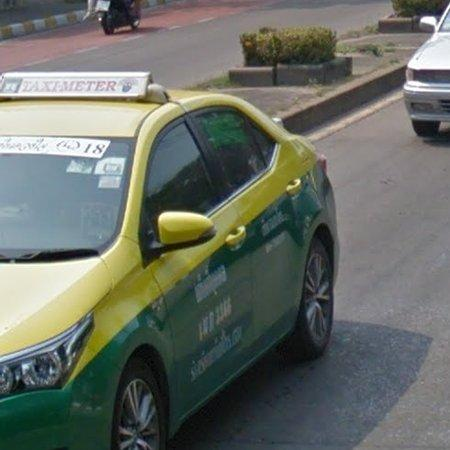taxis: (0, 72, 340, 450)
